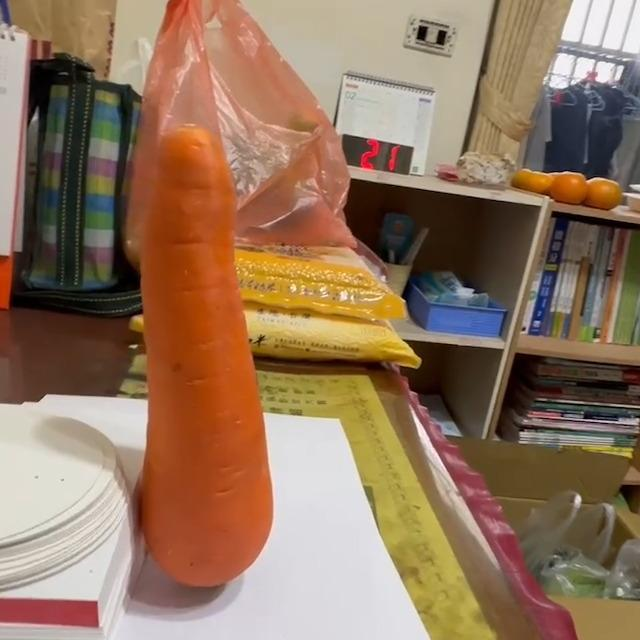carrot: (142, 126, 277, 591)
